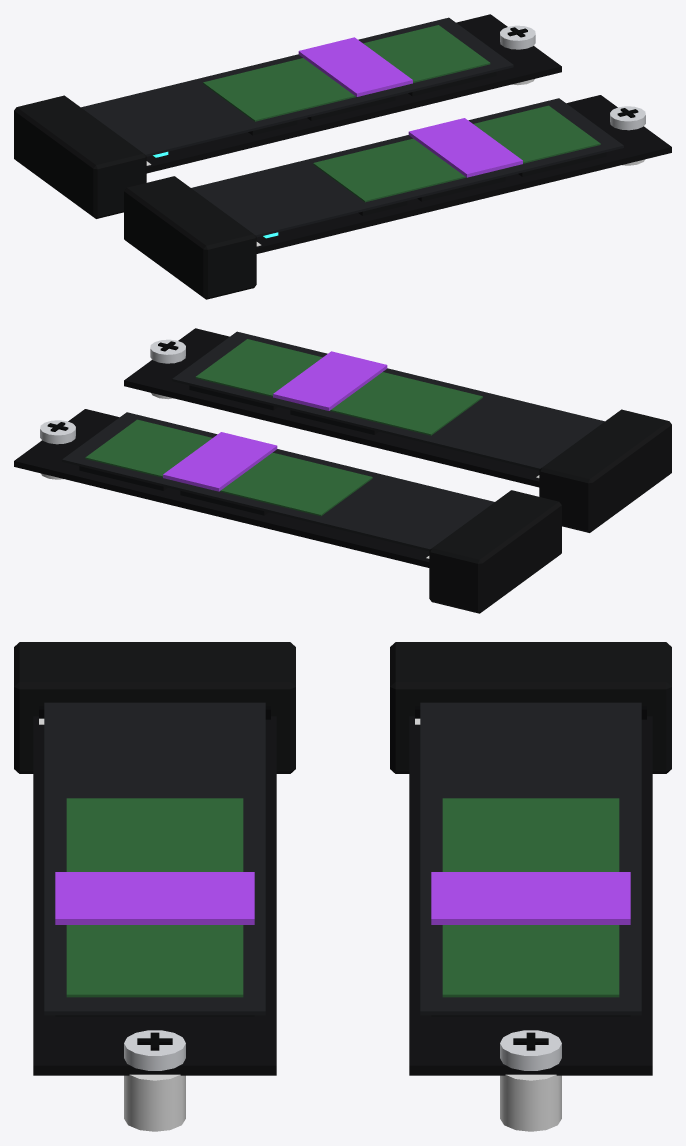
File: hwm_sto_ssd_240gb.glb
The picture shows the model from 3 angles, top to bottom: view 1: azimuth 30°, elevation 25°; view 2: azimuth 150°, elevation 25°; view 3: azimuth 270°, elevation 25°; orthographic projection. The views are drawn at different scales.
Parts seen in each view (by area): view 1: SSD_0, SSD_1, Slots, Screw_0, Screw_1; view 2: SSD_1, SSD_0, Slots, Screw_1, Screw_0; view 3: SSD_0, SSD_1, Slots, Screw_0, Screw_1.
Part boxes in pixels (x1=…): SSD_0: x1=81, y1=14, x2=561, y2=173; SSD_1: x1=191, y1=95, x2=671, y2=253; Slots: x1=14, y1=45, x2=645, y2=299; Screw_0: x1=500, y1=25, x2=535, y2=49; Screw_1: x1=610, y1=106, x2=645, y2=130; SSD_1: x1=124, y1=328, x2=604, y2=487; SSD_0: x1=14, y1=409, x2=494, y2=567; Slots: x1=40, y1=359, x2=671, y2=613; Screw_1: x1=150, y1=339, x2=185, y2=363; Screw_0: x1=40, y1=420, x2=75, y2=444; SSD_0: x1=409, y1=702, x2=652, y2=1075; SSD_1: x1=33, y1=702, x2=276, y2=1075; Slots: x1=14, y1=642, x2=671, y2=1131; Screw_0: x1=500, y1=1030, x2=561, y2=1070; Screw_1: x1=124, y1=1030, x2=185, y2=1070.
Bounding box in the file's own units: 0.0855 × 0.0092 × 0.0595.
